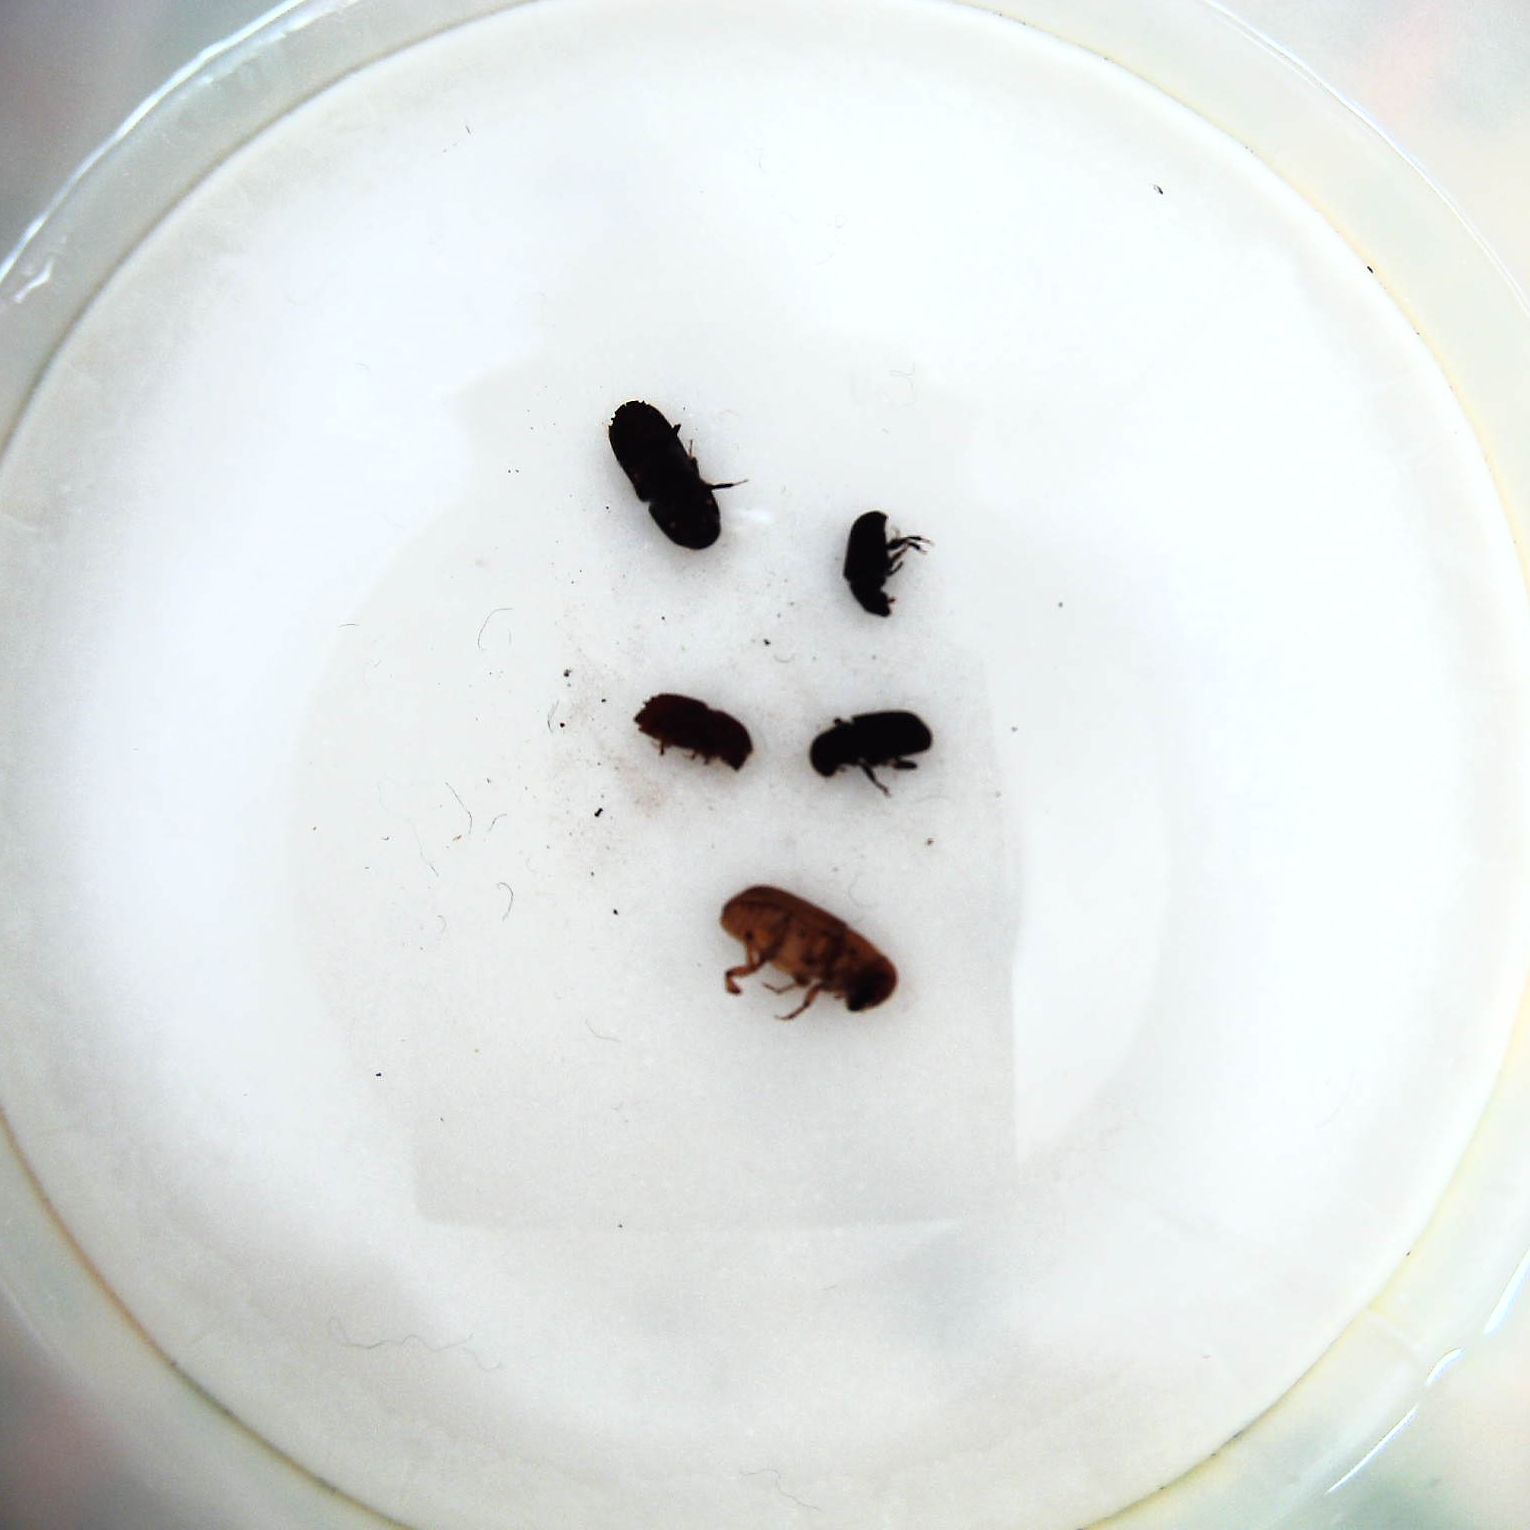Boerner: (602, 397, 727, 552)
Leconte: (717, 881, 902, 1028)
armandi: (803, 708, 939, 799)
coleoptera: (843, 506, 930, 621)
linnaeus: (630, 691, 757, 778)
